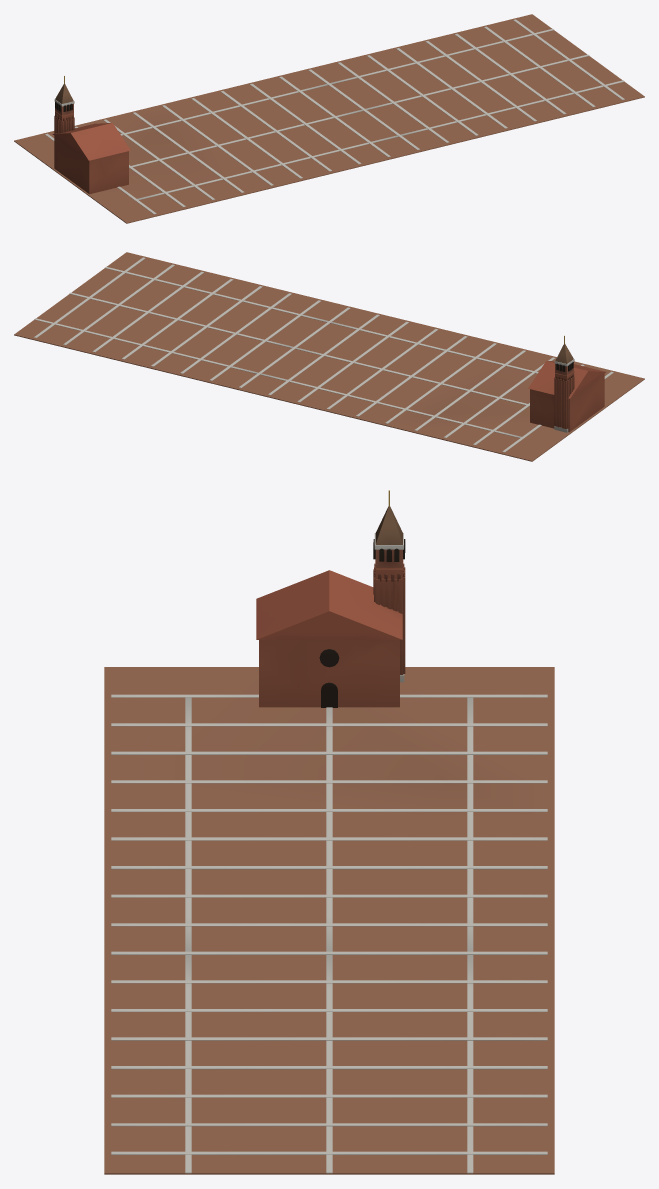
Rendered from piazza-1400.glb.
3 renders of one model, top to bottom at view 1: azimuth 30°, elevation 25°; view 2: azimuth 150°, elevation 25°; view 3: azimuth 270°, elevation 25°, orthographic. The views are drawn at different scales.
Parts seen in each view (by area): view 1: p0_paving, p1_buildings; view 2: p0_paving, p1_buildings; view 3: p0_paving, p1_buildings.
Boxes of the visible parts, left/top/right/bottom form: p0_paving: left=14, top=14, right=644, bottom=223; p1_buildings: left=52, top=76, right=130, bottom=194; p0_paving: left=14, top=252, right=644, bottom=461; p1_buildings: left=528, top=335, right=606, bottom=432; p0_paving: left=104, top=667, right=554, bottom=1174; p1_buildings: left=256, top=490, right=405, bottom=707.
Bounding box in the file's own units: 170 × 29.37 × 64.
